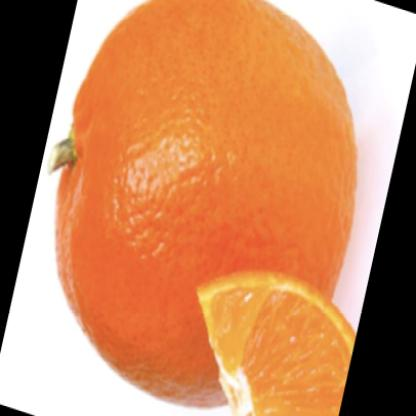fresh: (58, 2, 355, 416)
